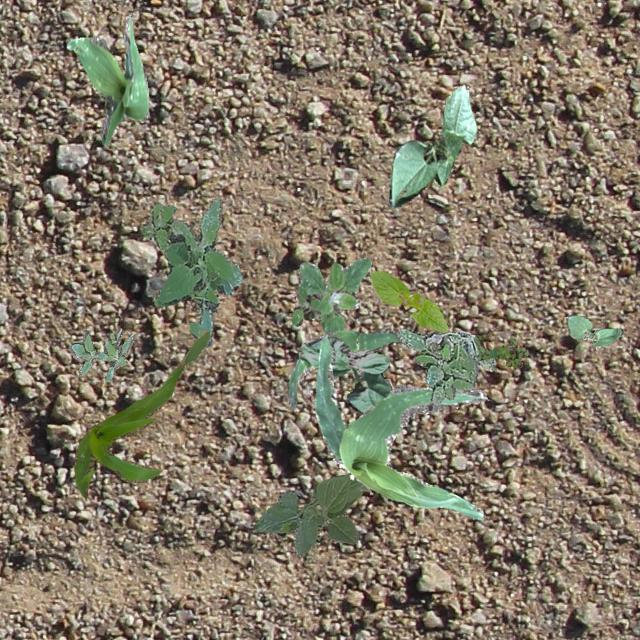crop: (314, 336, 486, 518), (74, 328, 208, 498), (388, 84, 477, 206), (66, 15, 148, 144), (254, 472, 364, 556), (288, 328, 402, 408), (298, 336, 392, 412), (369, 270, 446, 332), (564, 314, 622, 348)
weed: (140, 197, 240, 346), (396, 328, 494, 404), (290, 256, 370, 334), (68, 326, 134, 381), (473, 334, 528, 368)
